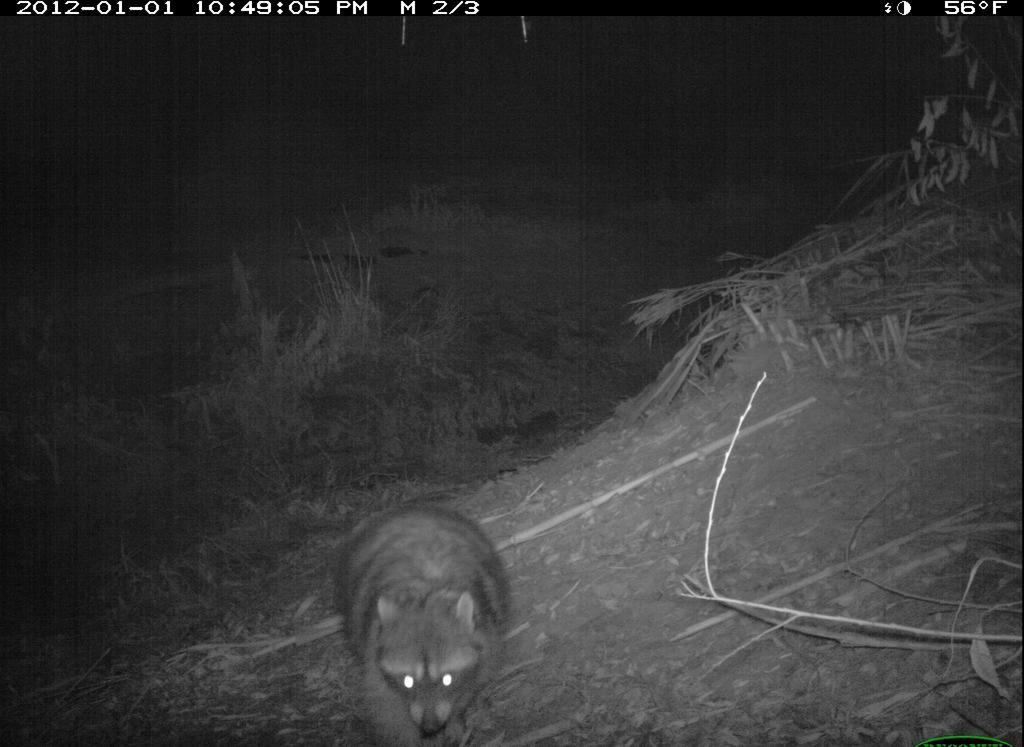raccoon: (312, 496, 533, 744)
